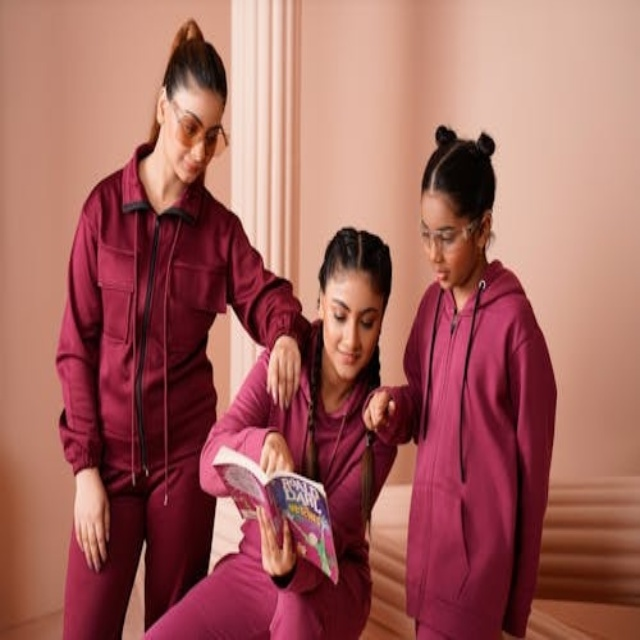Gafas: (169, 98, 226, 156), (418, 217, 481, 253)
Sin_gafas: (325, 292, 379, 331)
Sin_guantes: (68, 469, 115, 571), (265, 331, 306, 415), (257, 506, 297, 583), (260, 427, 294, 477)
Sin_mascara: (329, 336, 364, 381), (174, 158, 200, 190), (430, 265, 460, 290)
